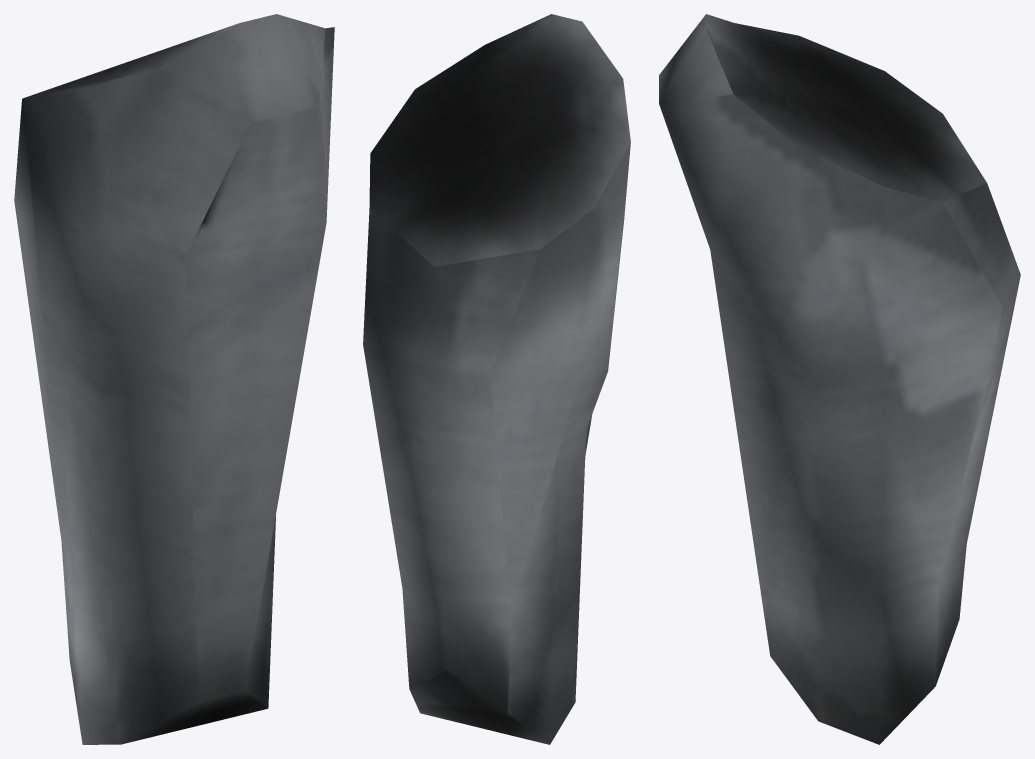
The model's file is grave_marine_calf_r.glb.
3 views of the same model, side by side, from view 1: azimuth 30°, elevation 25°; view 2: azimuth 150°, elevation 25°; view 3: azimuth 270°, elevation 25° (orthographic). The views are drawn at different scales.
Visible parts, largest first — view 1: scythe_marine_calf_r; view 2: scythe_marine_calf_r; view 3: scythe_marine_calf_r.
Boxes of the visible parts, box(x1,y1,x2,y2) form: scythe_marine_calf_r: box(14, 14, 334, 744); scythe_marine_calf_r: box(363, 14, 630, 744); scythe_marine_calf_r: box(659, 14, 1020, 744).
Bounding box in the file's own units: 0.8299 × 2.3 × 1.1.
Materials: 1 (1 with a texture image).
